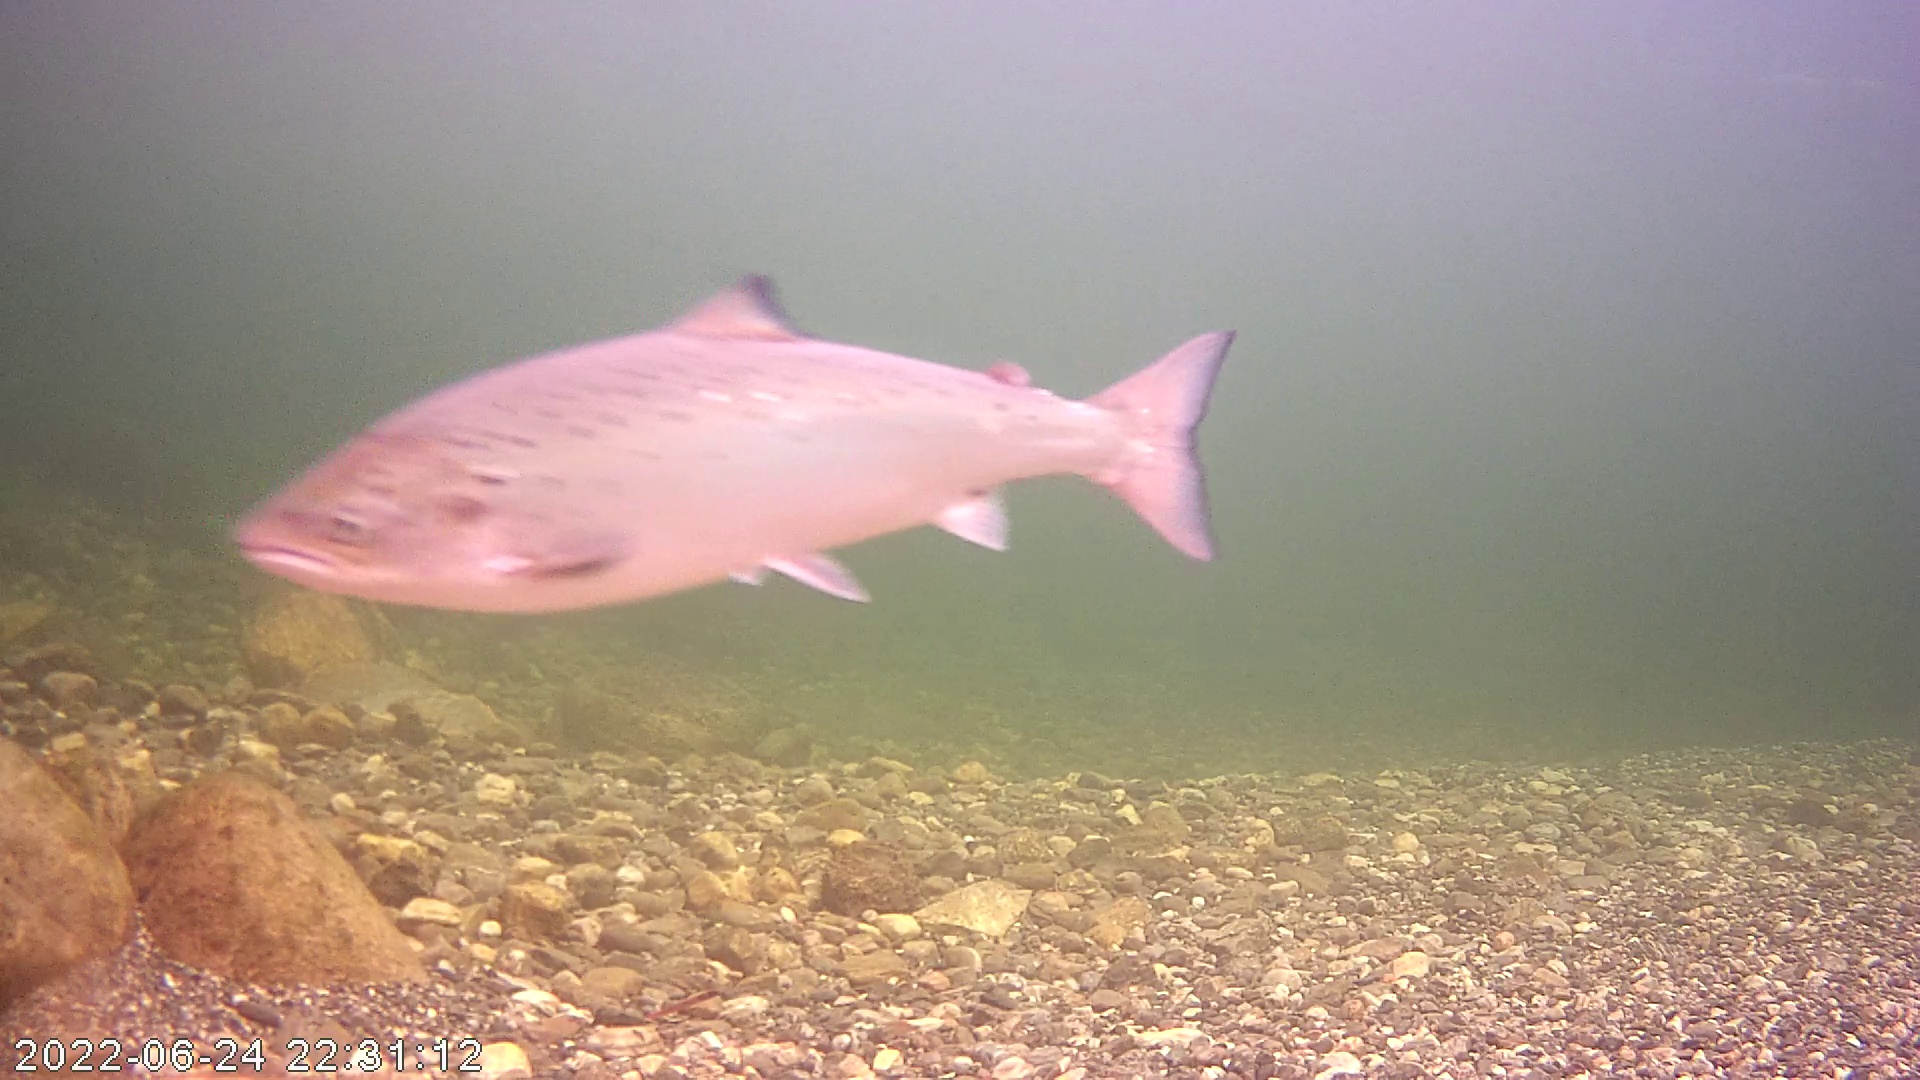salmon: (228, 270, 1236, 620)
